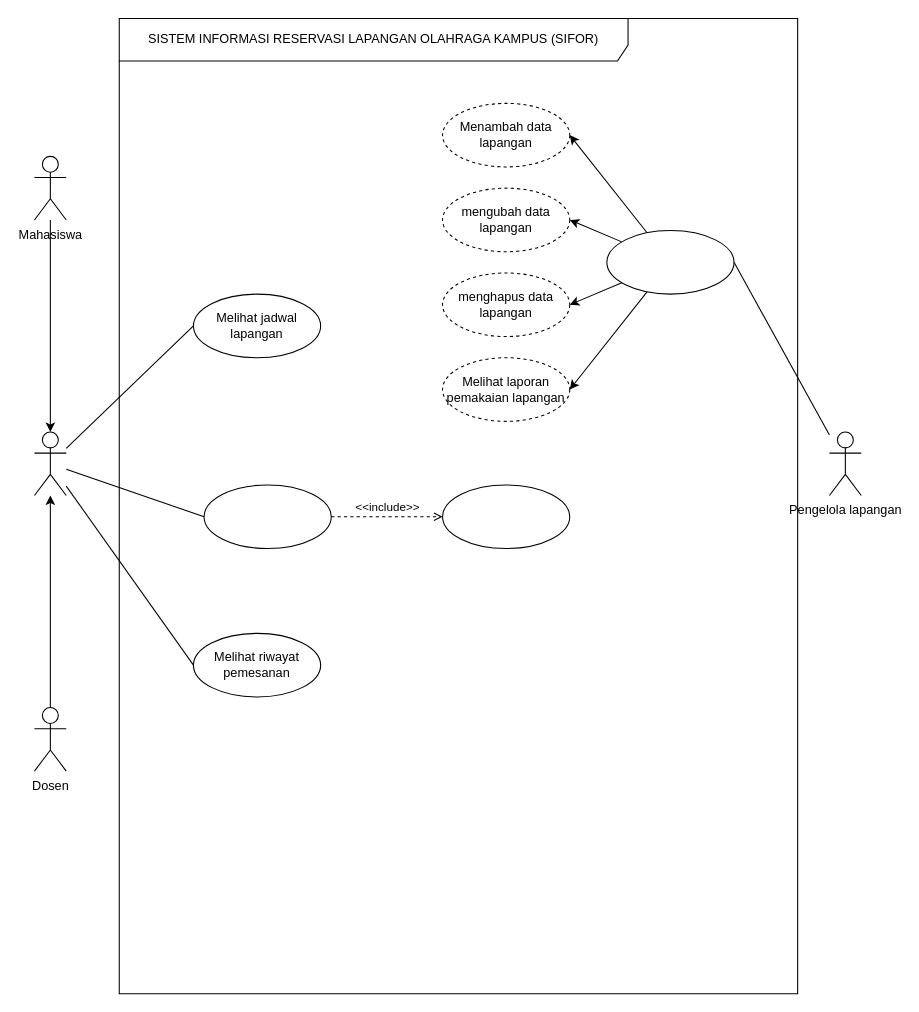
Some shapes in this 919 by 1012 pixel diagram are drawn without their labels. Here are the shapes that lost their labels. From the top down, the box of each, then its label:
(606, 229, 734, 294): Memeriksa Ketersediaan slot
(33, 431, 66, 496): Anggota
(203, 484, 331, 549): Memesan lapangan
(441, 484, 570, 549): Membayar sewa
